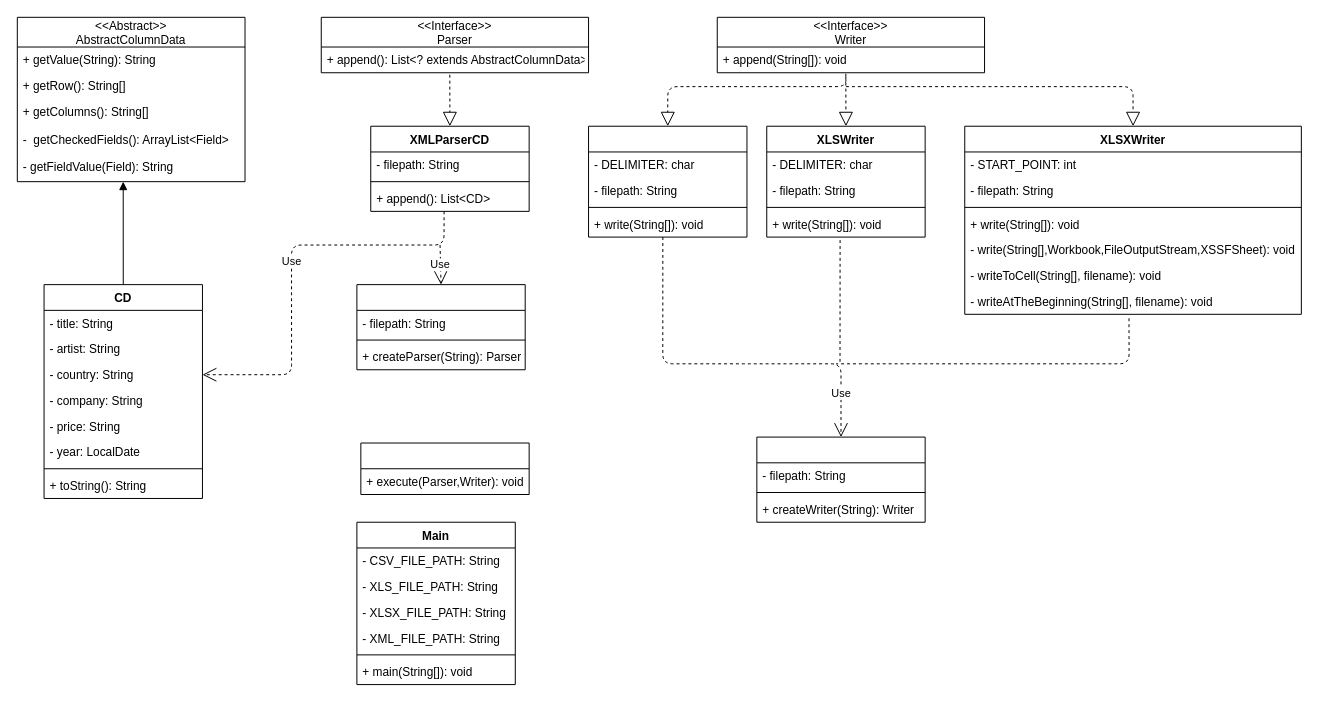
Image size: 1319x705. Some labels were removed from this diagram. The shapes that lost their labels are listed below. From the top down, each one's box as (x1, y1, x2, y2) in pixels, then its label:
(588, 125, 747, 237): CSVWriter
(356, 284, 525, 370): ParserFactory
(360, 442, 529, 495): Executor
(756, 436, 925, 522): WriterFactory
